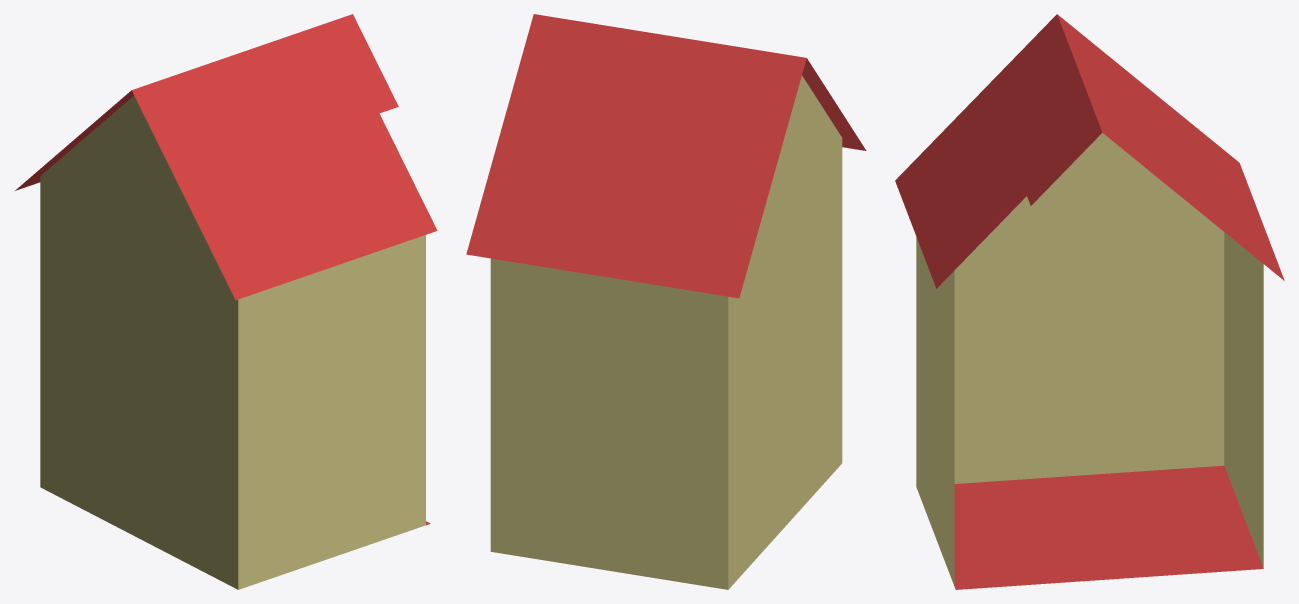
The picture shows the model from 3 angles, left to right: view 1: azimuth 30°, elevation 25°; view 2: azimuth 150°, elevation 25°; view 3: azimuth 270°, elevation 25°; orthographic projection. The views are drawn at different scales.
Bounding box in the file's own units: 8.71 × 10.55 × 13.59.
